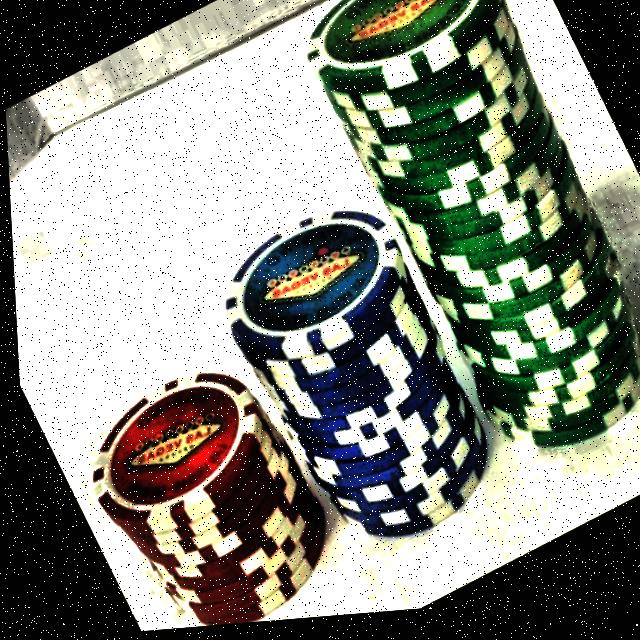Chip: (284, 0, 640, 499), (186, 167, 517, 590), (44, 328, 350, 638)
